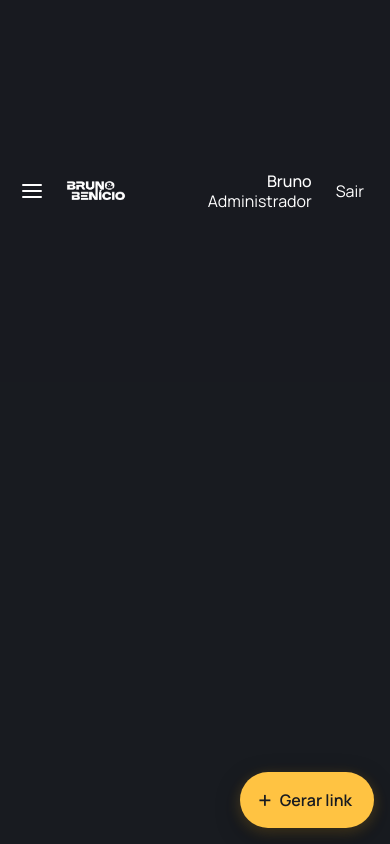
Test: PanelShell › menu mobile abre e fecha (inclusive com Esc)
This screenshot has width=390, height=844.
Click the button named "Abrir menu" at (32, 191), box top-left (12, 171), bottom-right (52, 211)
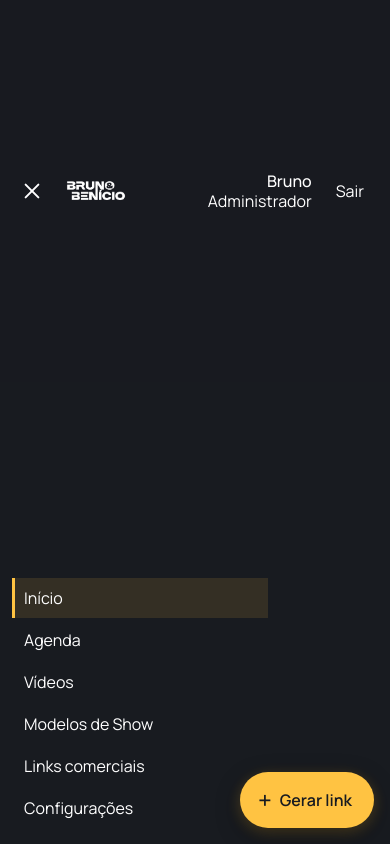
Check: the button named "Abrir menu" is expanded, box top-left (12, 171), bottom-right (52, 211)
Press Escape
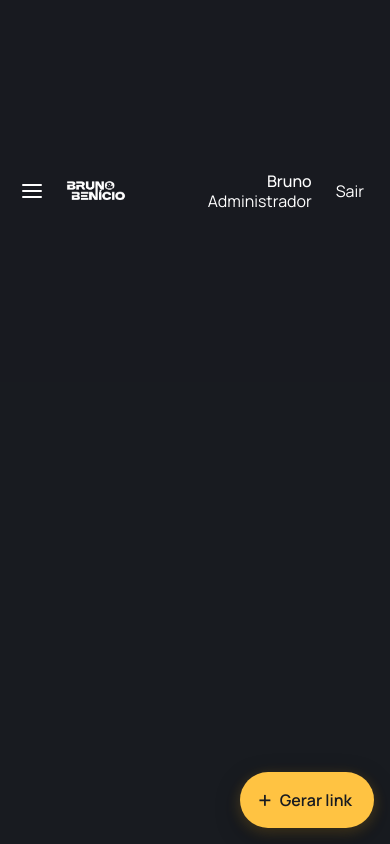
Check: the button named "Abrir menu" is collapsed, box top-left (12, 171), bottom-right (52, 211)
